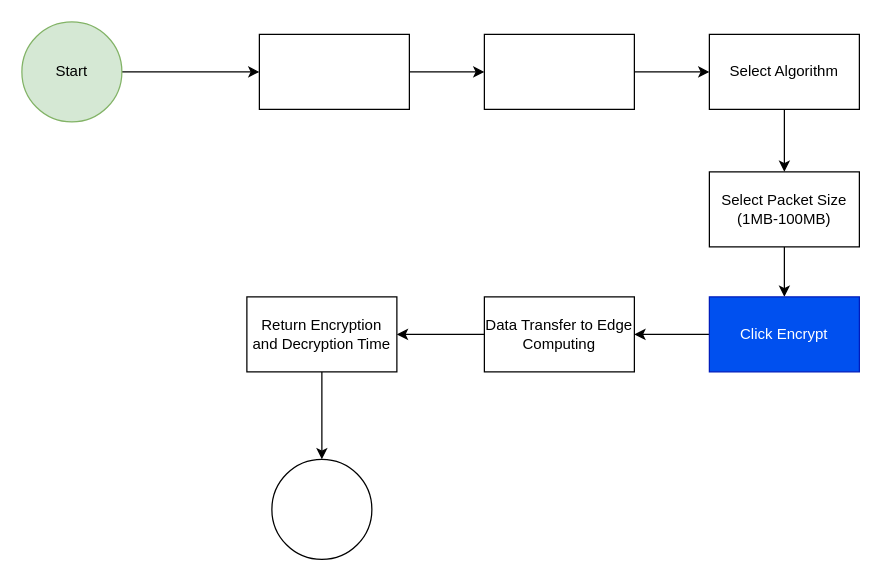
This 881x581 diagram has some shape labels left out. Each missing label, with the box of its shape:
End: (271, 458, 372, 559)
Select Level: (258, 33, 409, 109)
Select Method: (483, 33, 634, 109)
